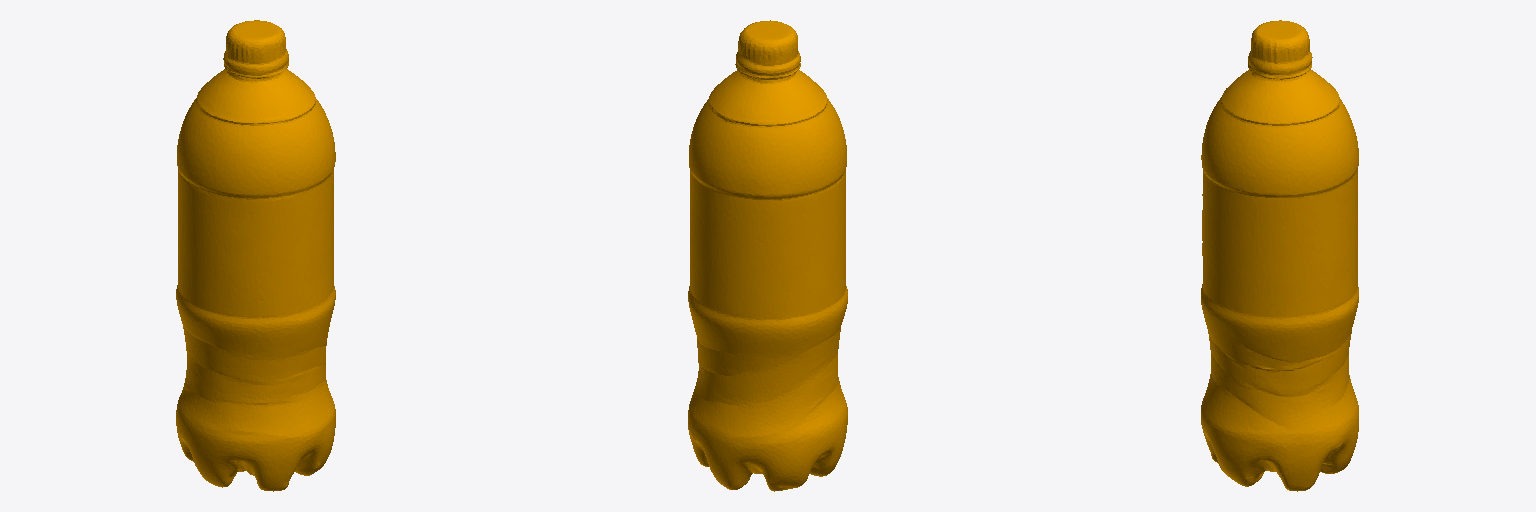
The robot description file, URDF, robot "root":
<robot name="root">
  <link name="link_original">
    <visual>
      <origin xyz="0 0 0" rpy="0 0 0"/>
      <geometry>
        <mesh filename="frame_000000_object_mesh_grasp_centered.obj" scale="1.0000E+00 1.0000E+00 1.0000E+00"/>
      </geometry>
    </visual>
    <inertial>
      <origin xyz="0 0 0" rpy="0 0 0"/>
      <inertia ixx="1.20E-03" ixy="7.04E-08" ixz="9.89E-07" iyy="1.20E-03" iyz="-3.57E-07" izz="2.16E-04"/>
    </inertial>
    <collision>
      <origin xyz="0 0 0" rpy="0 0 0"/>
      <geometry>
        <mesh filename="coacd_allinone.obj" scale="1.0000E+00 1.0000E+00 1.0000E+00"/>
      </geometry>
    </collision>
  </link>
</robot>

--- What the picture shows (computed from the rendered views, not written in the file) ---
3 views of the same robot in one strip: view 1: azimuth 30°, elevation 25°; view 2: azimuth 150°, elevation 25°; view 3: azimuth 270°, elevation 25° (orthographic).
Robot: root — 1 links, 0 joints (none); root link link_original; default pose: all joints at 0.
Visible links, largest first — view 1: link_original; view 2: link_original; view 3: link_original.
Boxes of the visible links, box(x1,y1,x2,y2) form: link_original: box(176, 20, 335, 491); link_original: box(688, 20, 847, 491); link_original: box(1201, 20, 1358, 491).
Bounding box of the posed robot: 0.0643 × 0.0641 × 0.1945 m (x, y, z).
Meshes: 1 distinct files referenced, 1 mesh visuals loaded (1 OBJ).
